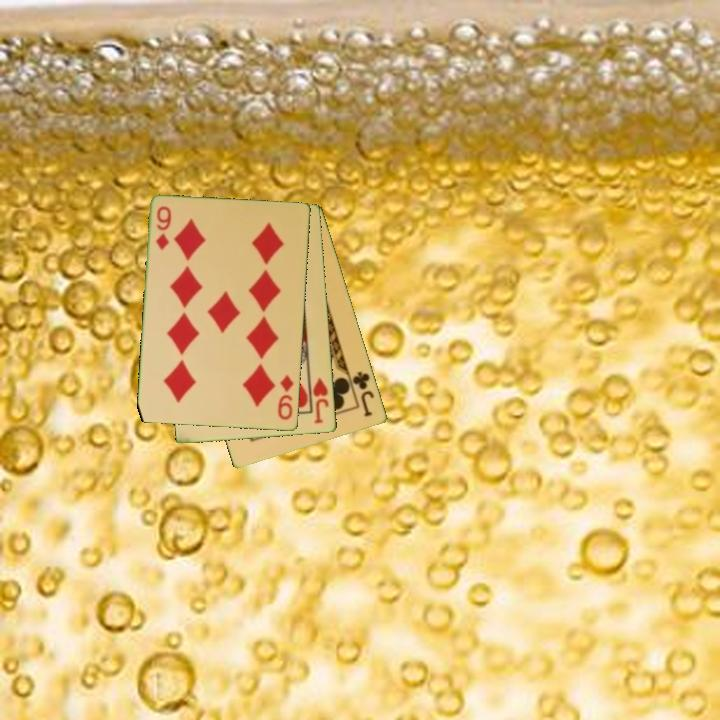9d: (275, 371, 296, 423), (153, 203, 174, 253)
Jc: (349, 368, 377, 420)
Jh: (306, 371, 332, 426)
